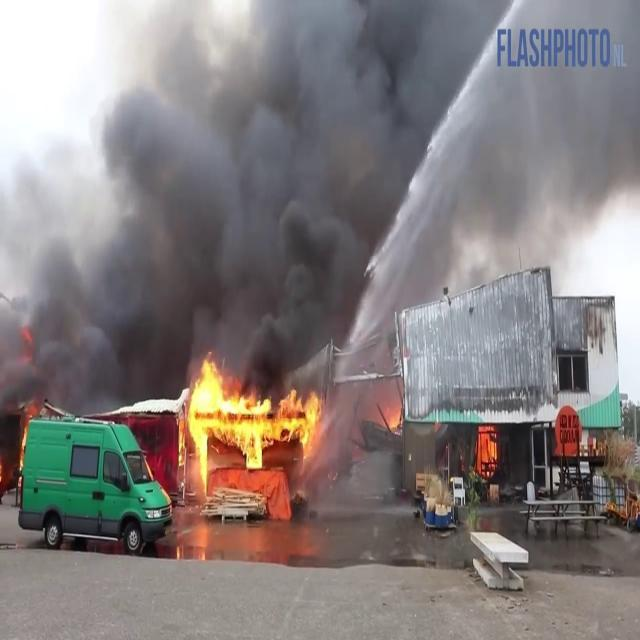Fire: (174, 356, 326, 512)
Smoke: (0, 1, 638, 390)
